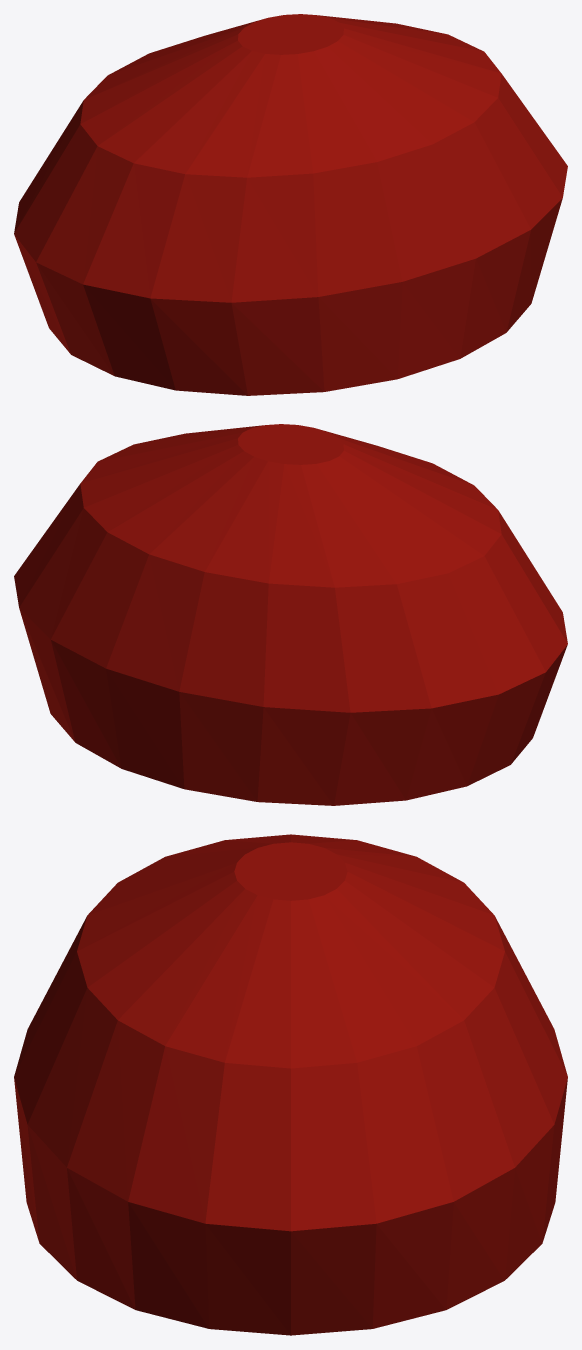
File: HairCap.obj
The picture shows the model from 3 angles, top to bottom: view 1: azimuth 30°, elevation 25°; view 2: azimuth 150°, elevation 25°; view 3: azimuth 270°, elevation 25°; orthographic projection. The views are drawn at different scales.
Parts seen in each view (by area): view 1: HairCap; view 2: HairCap; view 3: HairCap.
Part boxes in pixels (x1,y1,x2,y2): HairCap: (14, 14, 567, 395); HairCap: (14, 424, 567, 805); HairCap: (14, 834, 567, 1335).
Size of the model in its own units: 0.58 by 0.29 by 0.44.
